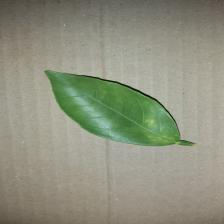greening: (43, 68, 196, 151)
